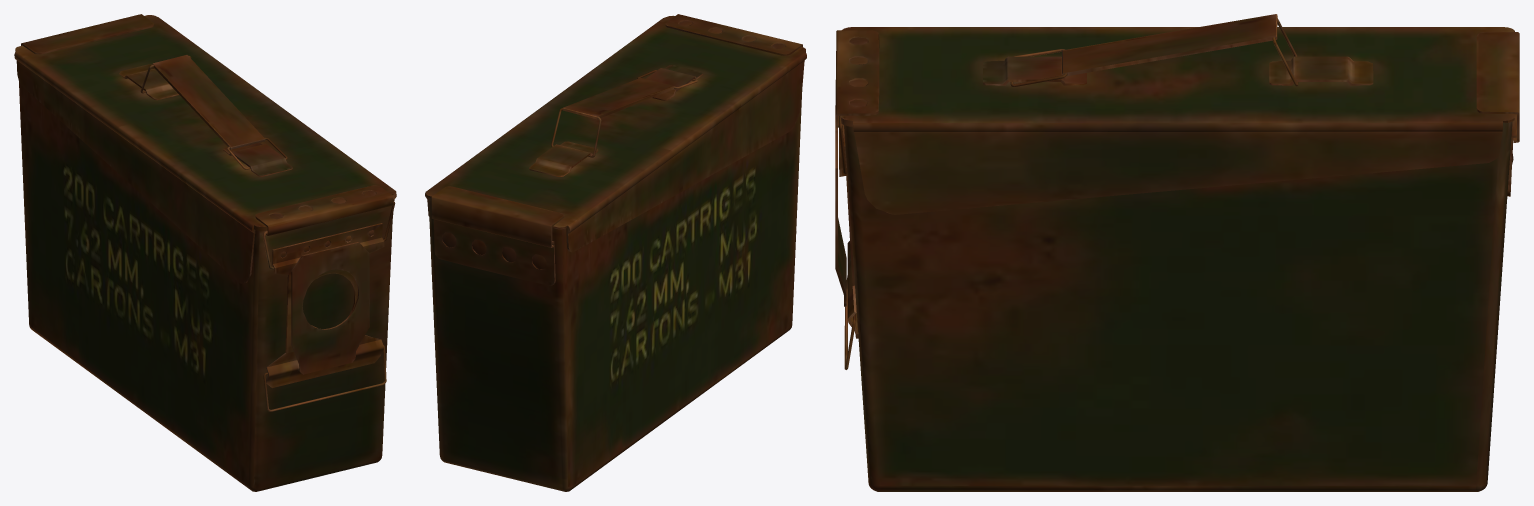
File: ammo_box.glb
The picture shows the model from 3 angles, left to right: view 1: azimuth 30°, elevation 25°; view 2: azimuth 150°, elevation 25°; view 3: azimuth 270°, elevation 25°; orthographic projection. The views are drawn at different scales.
Parts seen in each view (by area): view 1: ammo_box, ammo_box_handle, ammo_box_latch; view 2: ammo_box, ammo_box_handle; view 3: ammo_box, ammo_box_handle.
Part boxes in pixels (bbox=[...]): ammo_box: bbox=[14, 14, 396, 491]; ammo_box_handle: bbox=[152, 55, 265, 149]; ammo_box_latch: bbox=[263, 345, 386, 411]; ammo_box: bbox=[425, 14, 806, 491]; ammo_box_handle: bbox=[562, 78, 675, 119]; ammo_box: bbox=[835, 27, 1519, 491]; ammo_box_handle: bbox=[1062, 14, 1277, 76].
Size of the model in its own units: 0.0865 by 0.1773 by 0.2578.
1 material, 1 textured.
